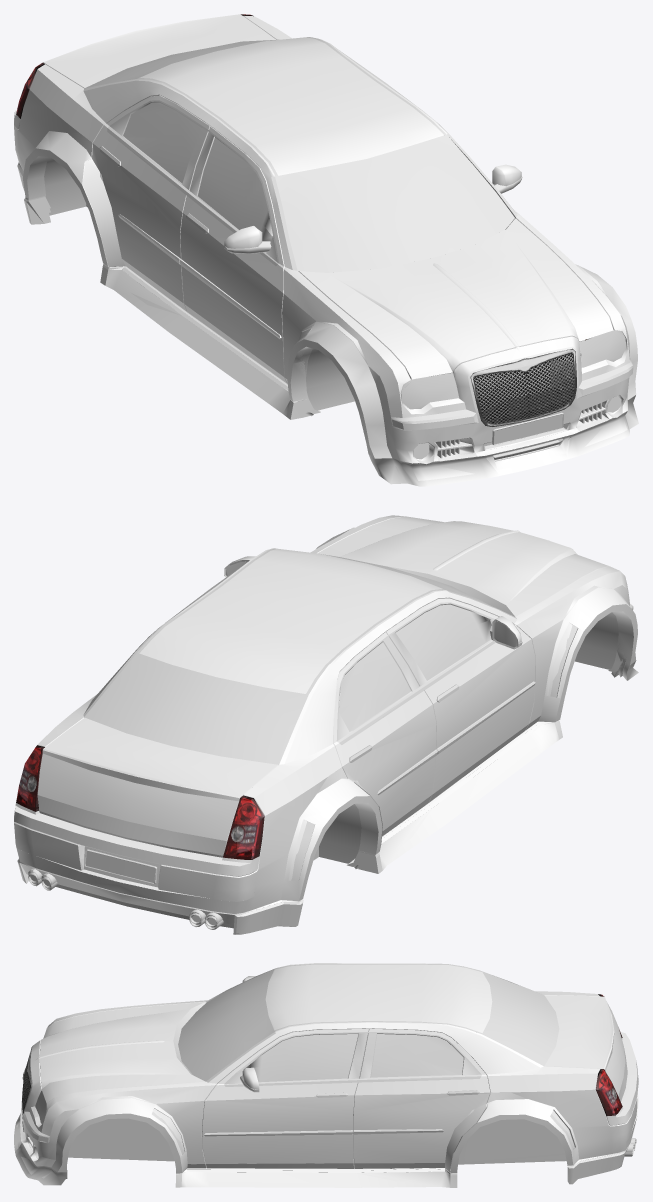
The model's file is President.fbx.
3 views of the same model, one above another, from view 1: azimuth 30°, elevation 25°; view 2: azimuth 150°, elevation 25°; view 3: azimuth 270°, elevation 25° (orthographic). The views are drawn at different scales.
Parts seen in each view (by area): view 1: body, kit04_body, window, kit01_body, static_objects, radiator, kit04_objects, kit03_body, lights_glass, chrome_objects, kit01_objects; view 2: body, kit04_body, window, kit01_body, static_objects, standart_objects, rear_lights, kit04_objects, kit03_body; view 3: body, kit04_body, window, standart_objects, static_objects, kit01_body, rear_lights, kit04_objects, kit03_body, radiator.
Boxes of the visible parts, box(x1,y1,x2,y2) form: body: box(14, 14, 633, 460); kit04_body: box(14, 94, 638, 486); window: box(85, 39, 514, 272); kit01_body: box(14, 62, 627, 464); static_objects: box(99, 37, 563, 445); radiator: box(470, 348, 576, 426); kit04_objects: box(44, 157, 601, 457); kit03_body: box(37, 157, 629, 480); lights_glass: box(401, 330, 625, 409); chrome_objects: box(391, 359, 633, 423); kit01_objects: box(306, 379, 354, 410); body: box(14, 515, 620, 914); kit04_body: box(15, 529, 638, 934); window: box(84, 554, 491, 764); kit01_body: box(20, 549, 629, 924); static_objects: box(85, 548, 522, 883); standart_objects: box(28, 612, 618, 927); rear_lights: box(16, 745, 264, 859); kit04_objects: box(28, 624, 577, 929); kit03_body: box(288, 611, 629, 880); body: box(22, 963, 638, 1170); kit04_body: box(14, 975, 637, 1187); window: box(178, 969, 559, 1082); standart_objects: box(68, 1118, 636, 1164); static_objects: box(21, 963, 482, 1132); kit01_body: box(20, 1040, 627, 1172); rear_lights: box(595, 994, 622, 1115); kit04_objects: box(33, 1111, 636, 1164); kit03_body: box(17, 1108, 419, 1181); radiator: box(22, 1049, 31, 1114).
Size of the model in its own units: 2.09 by 1.34 by 5.1.
Materials: 6 (4 with a texture image).
